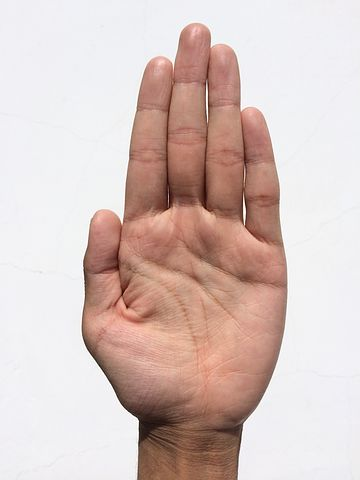palmhand: (83, 23, 288, 424)
